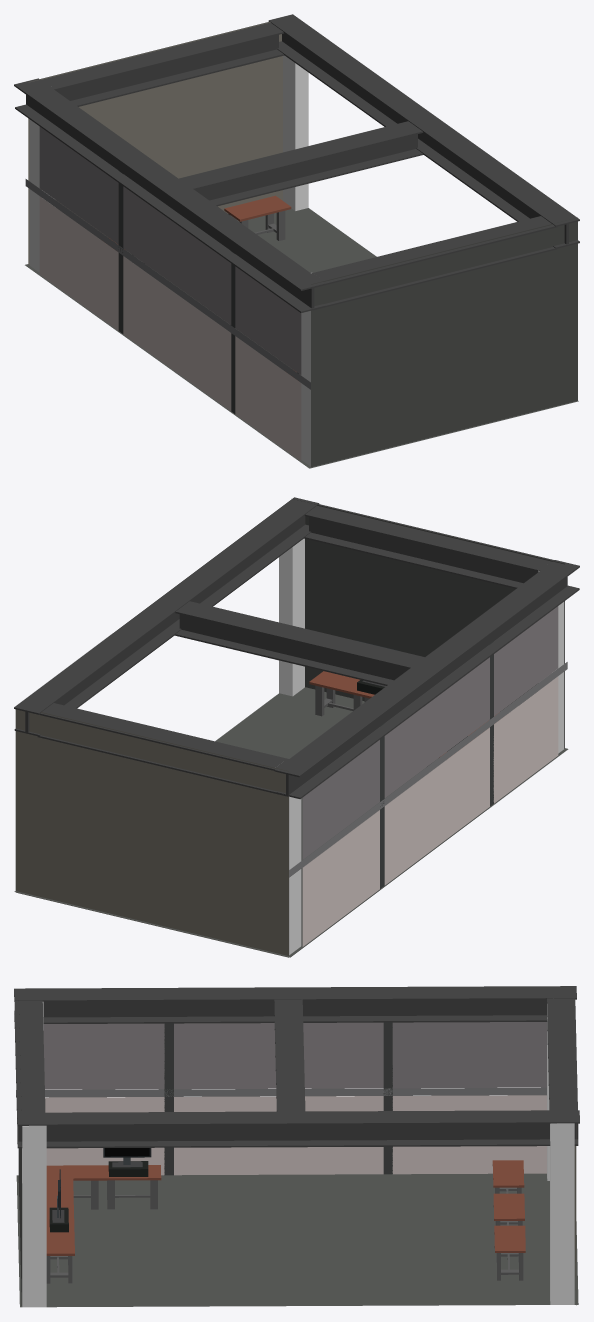
Rendered from laboratorio.gltf.
3 views of the same model, one above another, from view 1: azimuth 30°, elevation 25°; view 2: azimuth 150°, elevation 25°; view 3: azimuth 270°, elevation 25° (orthographic).
Visible parts, largest first — view 1: Vigas_Amarre, ParedFondo, ParedDerecha, ParedIzquierda.005, ParedIzquierda.008, ParedIzquierda.006, ParedIzquierda.001, Piso, ParedIzquierda.007, ParedIzquierda.009, Columna4, ParedIzquierda.002 (+5 smaller); view 2: ParedDerecha, Vigas_Amarre, ParedFondo, ParedIzquierda.005, ParedIzquierda.008, Piso, ParedIzquierda.006, ParedIzquierda.001, ParedIzquierda.007, ParedIzquierda.009, Columna1, ParedIzquierda.002 (+5 smaller); view 3: Piso, Vigas_Amarre, ParedIzquierda.008, ParedIzquierda.007, ParedIzquierda.005, ParedIzquierda.009, ParedIzquierda.006, Columna1, Columna4, ParedIzquierda.002, ParedIzquierda.001, Mesa.Lab3 (+11 smaller).
Part boxes in pixels (x1=…): Vigas_Amarre: x1=14, y1=14, x2=579, y2=312; ParedFondo: x1=311, y1=217, x2=577, y2=467; ParedDerecha: x1=28, y1=22, x2=282, y2=264; ParedIzquierda.005: x1=123, y1=256, x2=231, y2=410; ParedIzquierda.008: x1=123, y1=186, x2=231, y2=324; ParedIzquierda.006: x1=39, y1=196, x2=118, y2=330; ParedIzquierda.001: x1=235, y1=336, x2=301, y2=461; Piso: x1=25, y1=208, x2=578, y2=468; ParedIzquierda.007: x1=39, y1=127, x2=118, y2=244; ParedIzquierda.009: x1=235, y1=266, x2=301, y2=374; Columna4: x1=283, y1=55, x2=308, y2=210; ParedIzquierda.002: x1=25, y1=179, x2=310, y2=389; ParedDerecha: x1=15, y1=709, x2=288, y2=957; Vigas_Amarre: x1=14, y1=497, x2=579, y2=799; ParedFondo: x1=293, y1=499, x2=564, y2=748; ParedIzquierda.005: x1=384, y1=727, x2=489, y2=885; ParedIzquierda.008: x1=384, y1=657, x2=489, y2=797; Piso: x1=14, y1=687, x2=568, y2=957; ParedIzquierda.006: x1=302, y1=810, x2=379, y2=946; ParedIzquierda.001: x1=493, y1=676, x2=558, y2=803; ParedIzquierda.007: x1=302, y1=740, x2=379, y2=859; ParedIzquierda.009: x1=494, y1=606, x2=558, y2=716; Columna1: x1=279, y1=538, x2=304, y2=696; ParedIzquierda.002: x1=289, y1=662, x2=567, y2=877; Piso: x1=16, y1=1173, x2=578, y2=1307; Vigas_Amarre: x1=14, y1=986, x2=579, y2=1148; ParedIzquierda.008: x1=174, y1=1022, x2=383, y2=1089; ParedIzquierda.007: x1=392, y1=1022, x2=546, y2=1088; ParedIzquierda.005: x1=174, y1=1096, x2=383, y2=1175; ParedIzquierda.009: x1=43, y1=1023, x2=164, y2=1089; ParedIzquierda.006: x1=392, y1=1095, x2=546, y2=1174; Columna1: x1=22, y1=1125, x2=46, y2=1307; Columna4: x1=550, y1=1123, x2=574, y2=1304; ParedIzquierda.002: x1=16, y1=1087, x2=546, y2=1097; ParedIzquierda.001: x1=45, y1=1097, x2=164, y2=1175; Mesa.Lab3: x1=494, y1=1225, x2=525, y2=1280.
Bounding box in the file's own units: 10.57 × 6.51 × 18.15.
